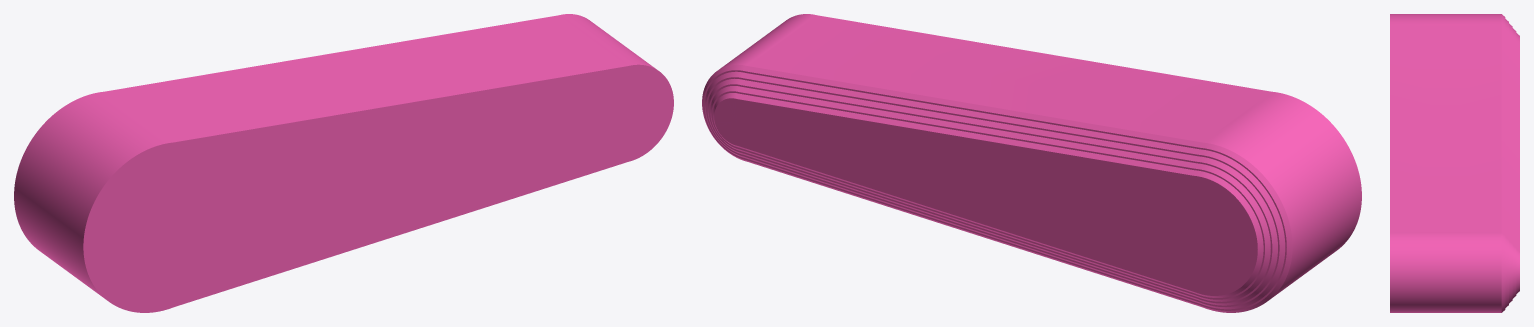
File: flipper fixed3.fbx
The picture shows the model from 3 angles, left to right: view 1: azimuth 30°, elevation 25°; view 2: azimuth 150°, elevation 25°; view 3: azimuth 270°, elevation 25°; orthographic projection. The views are drawn at different scales.
Visible parts, largest first — view 1: flipper; view 2: flipper; view 3: flipper.
Boxes of the visible parts, box(x1,y1,x2,y2) form: flipper: box(14, 14, 673, 312); flipper: box(702, 14, 1361, 312); flipper: box(1390, 14, 1519, 312).
Size of the model in its own units: 2636 by 710 by 624.
